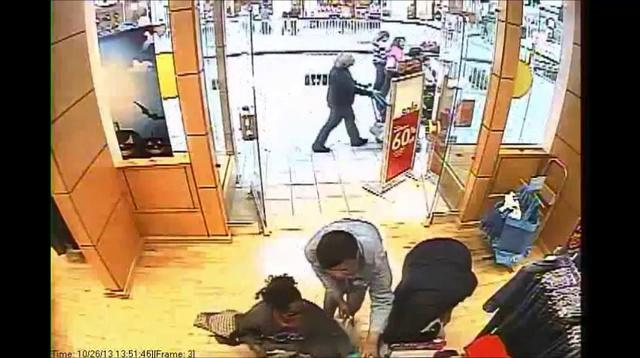Regular: (291, 210, 390, 295), (309, 42, 358, 160)
Shoplifting: (364, 234, 477, 358), (228, 267, 333, 358)
